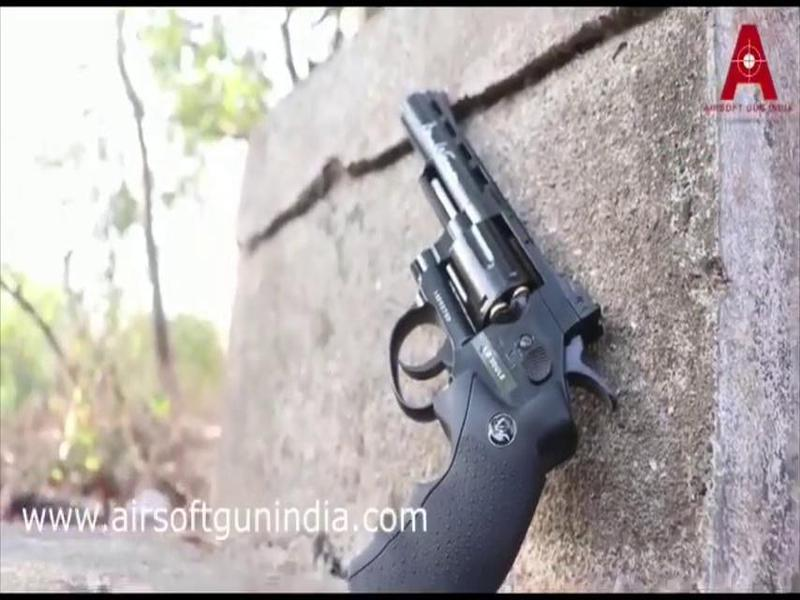Revolver: (304, 78, 627, 600)
